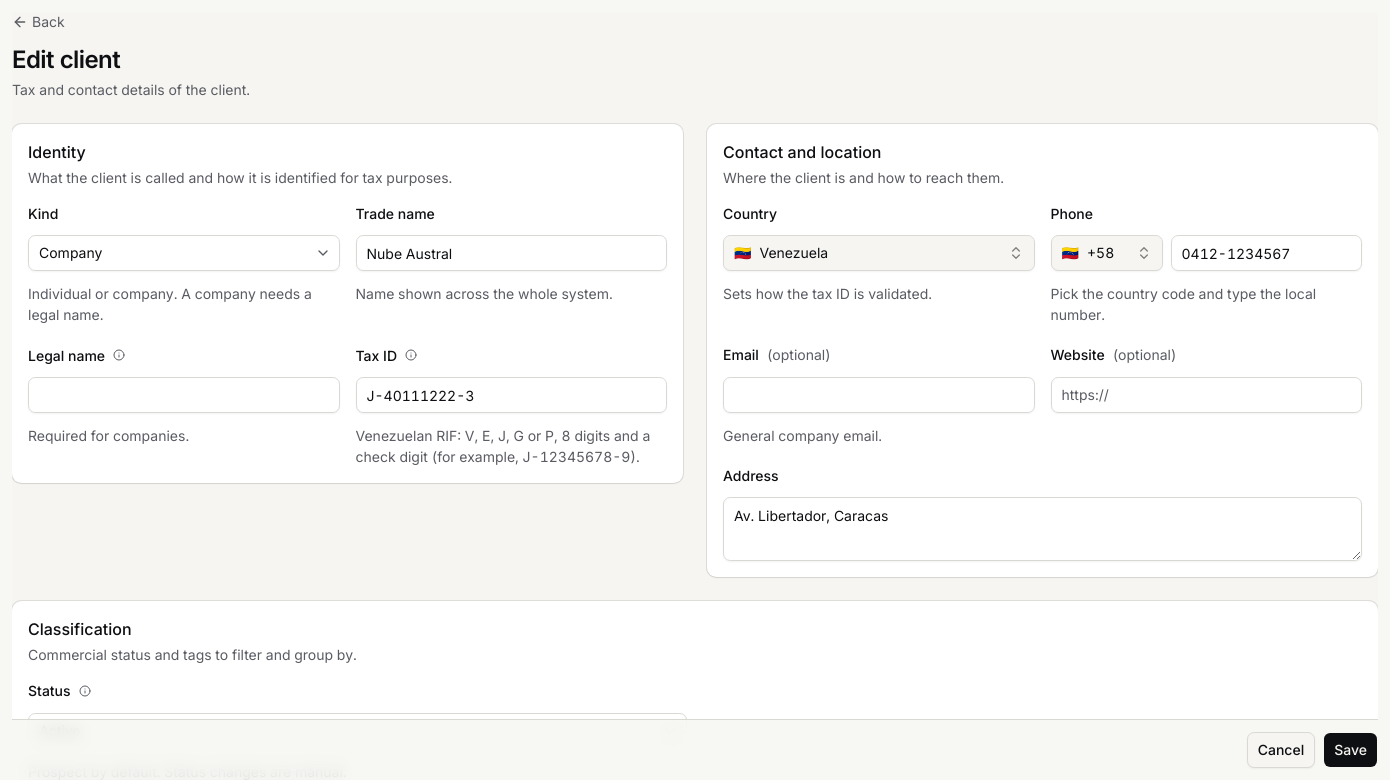
Test case: ClientForm › describes each invalid field by its error message, and keeps the hint in the description
The image size is (1390, 780).
Click the button "Save" at {"x": 1351, "y": 750}, box x1=1323 y1=732 x2=1378 y2=768
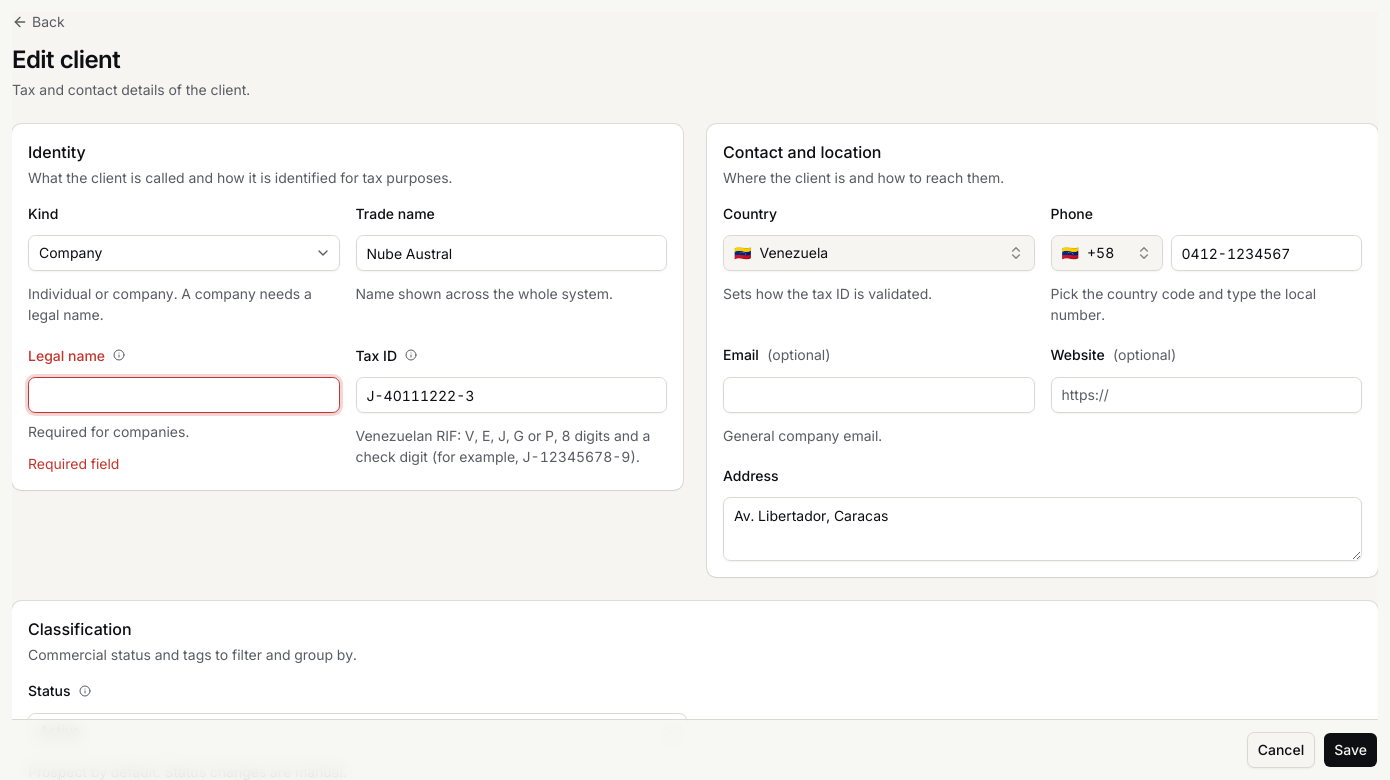
Expected: the text "Required field" is shown, x1=28 y1=455 x2=119 y2=472
